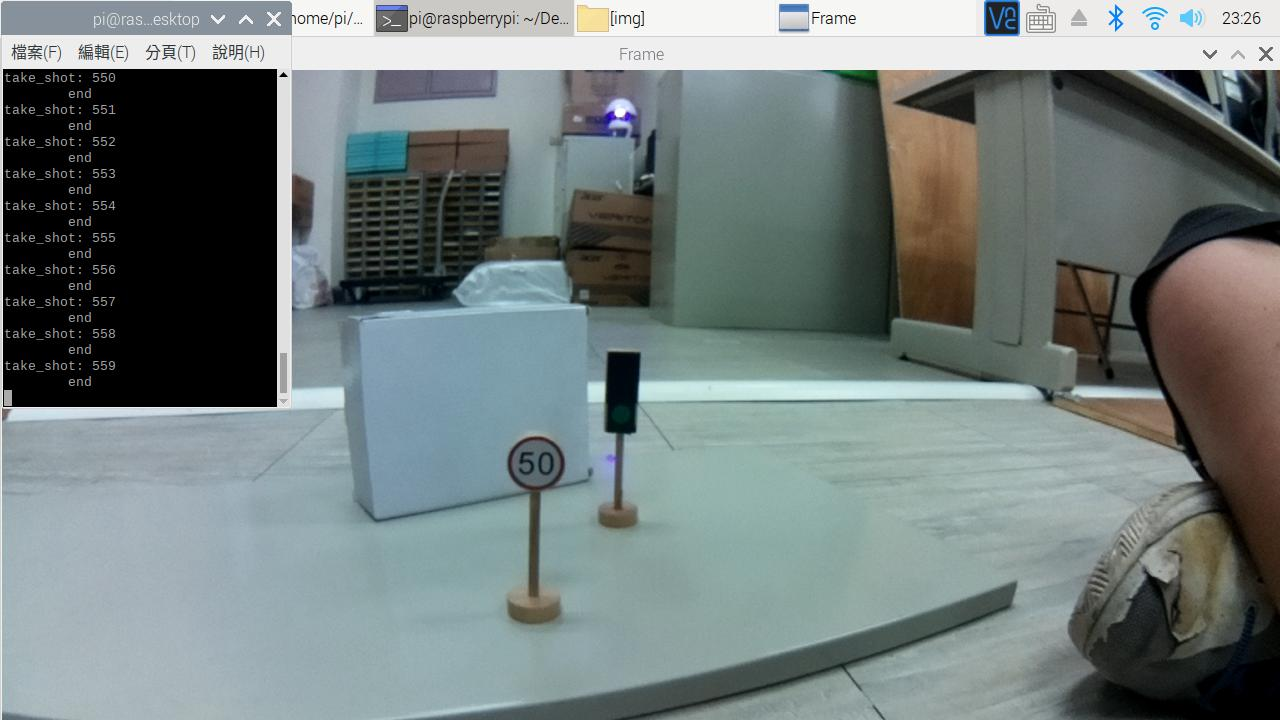Green: (596, 342, 652, 449)
Speed50: (494, 433, 568, 498)
